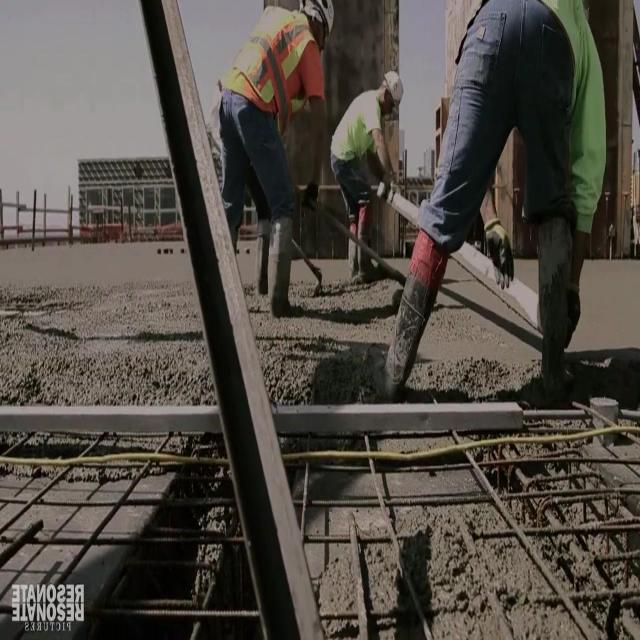Reflective-Jacket: (210, 0, 328, 125), (324, 80, 391, 176)
Safety-Helmet: (376, 60, 408, 114), (298, 0, 340, 40)
